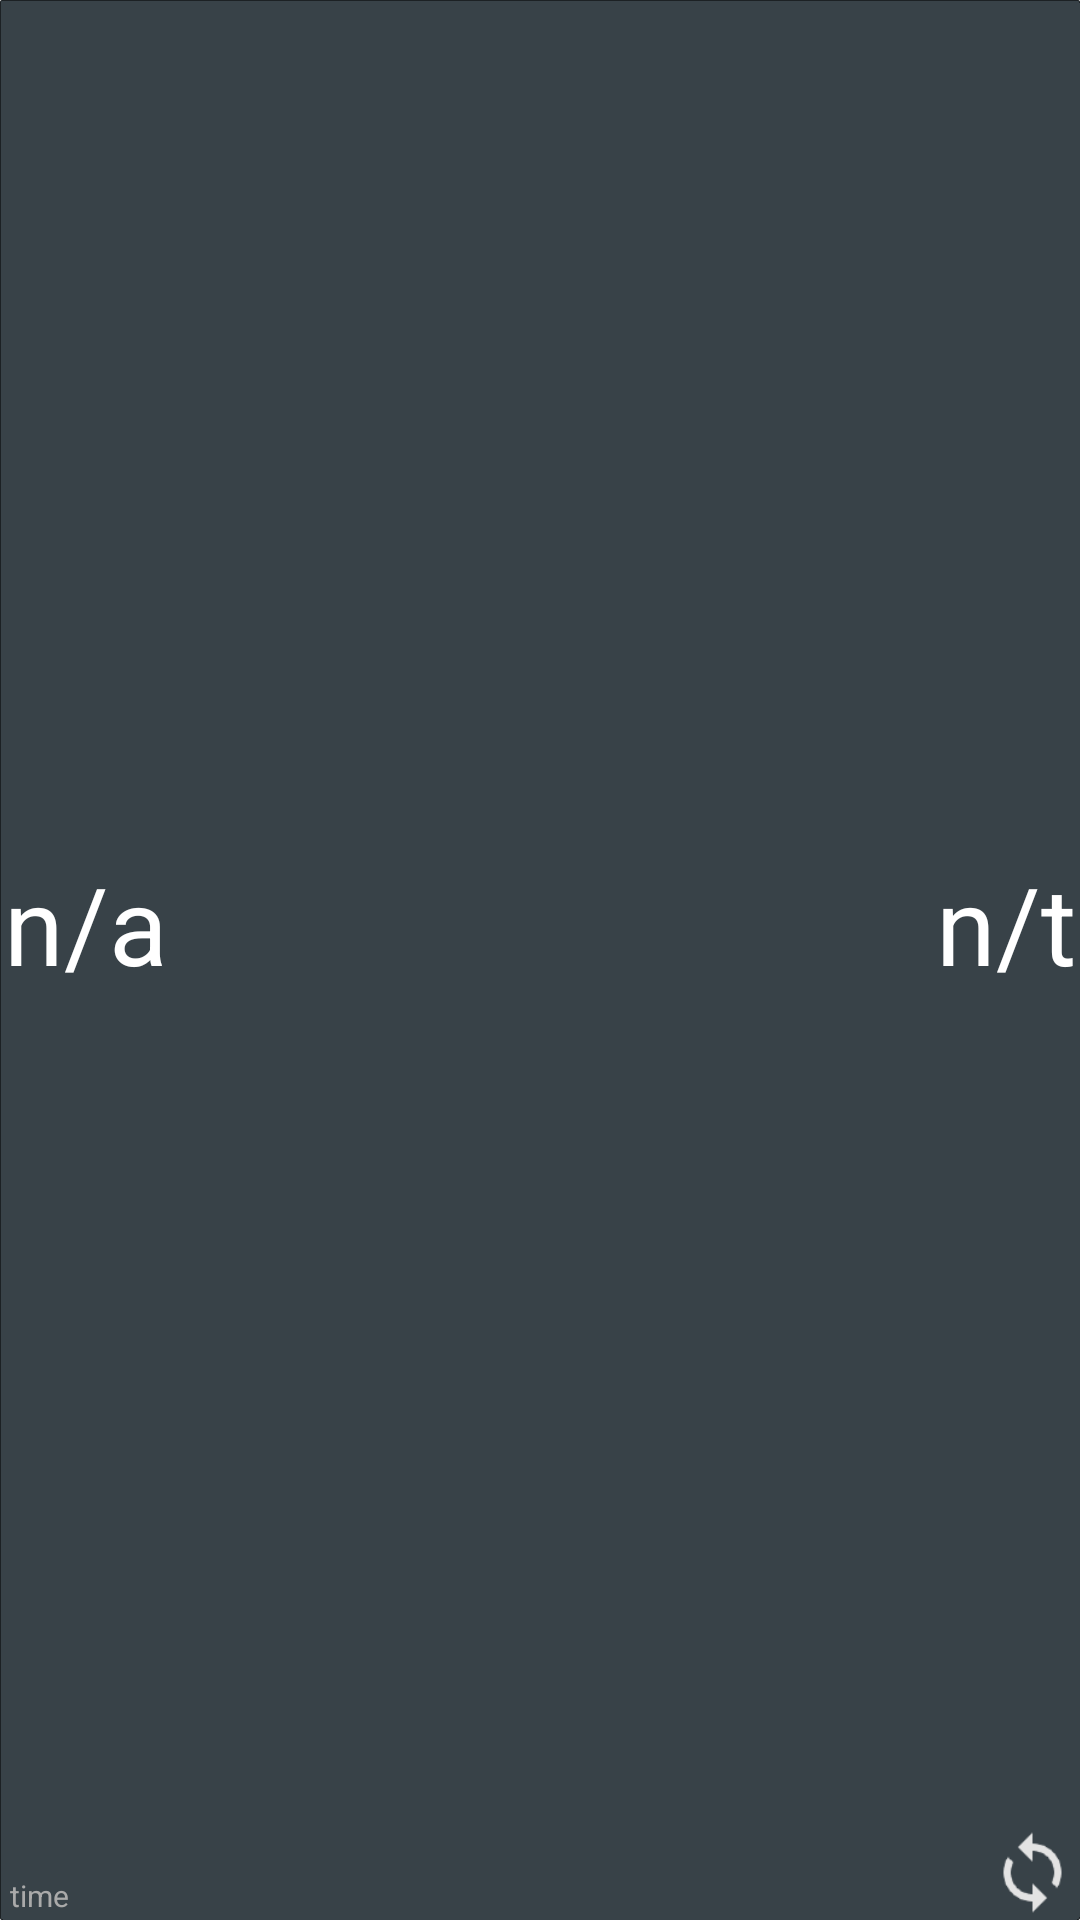

Named icons in this screenshot (1080px×1920px) and their centers, (x=x, y=y):
perm group sync settings: (x=1032, y=1872)
